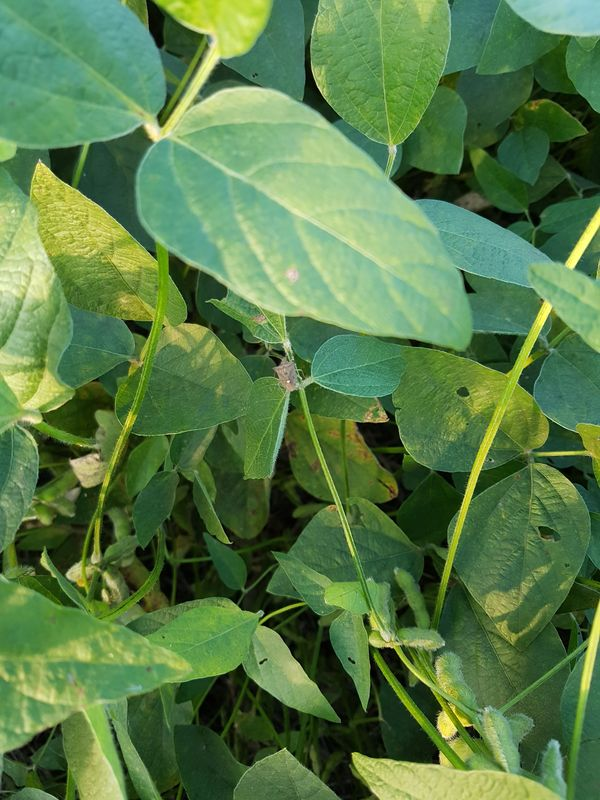Euschistus_heros_adulto: (266, 348, 312, 398)
